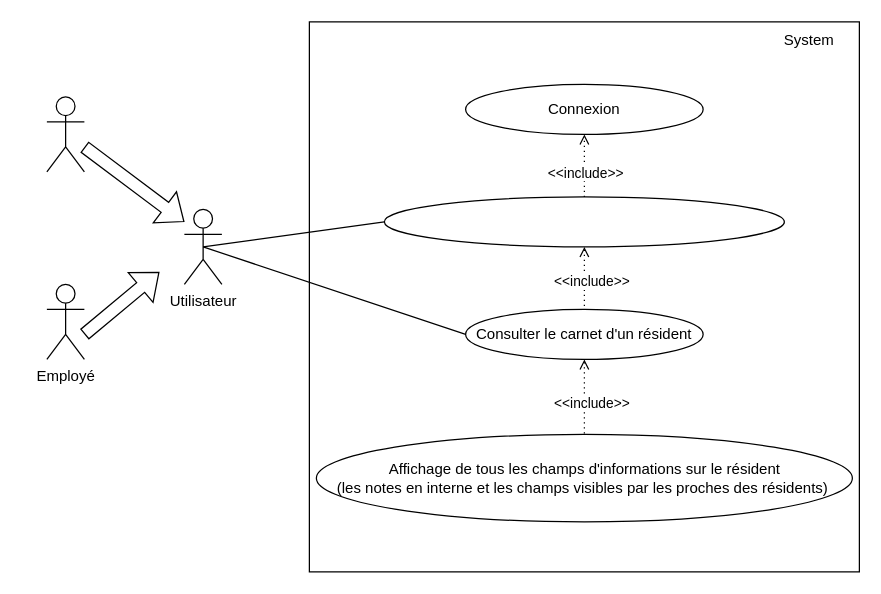
Image size: 881x594. Some labels were removed from this diagram. Each missing label, with the box of its shape:
Accéder à la liste des résident de la maison de retraite: (383, 196, 784, 247)
Responsable: (46, 96, 84, 172)
